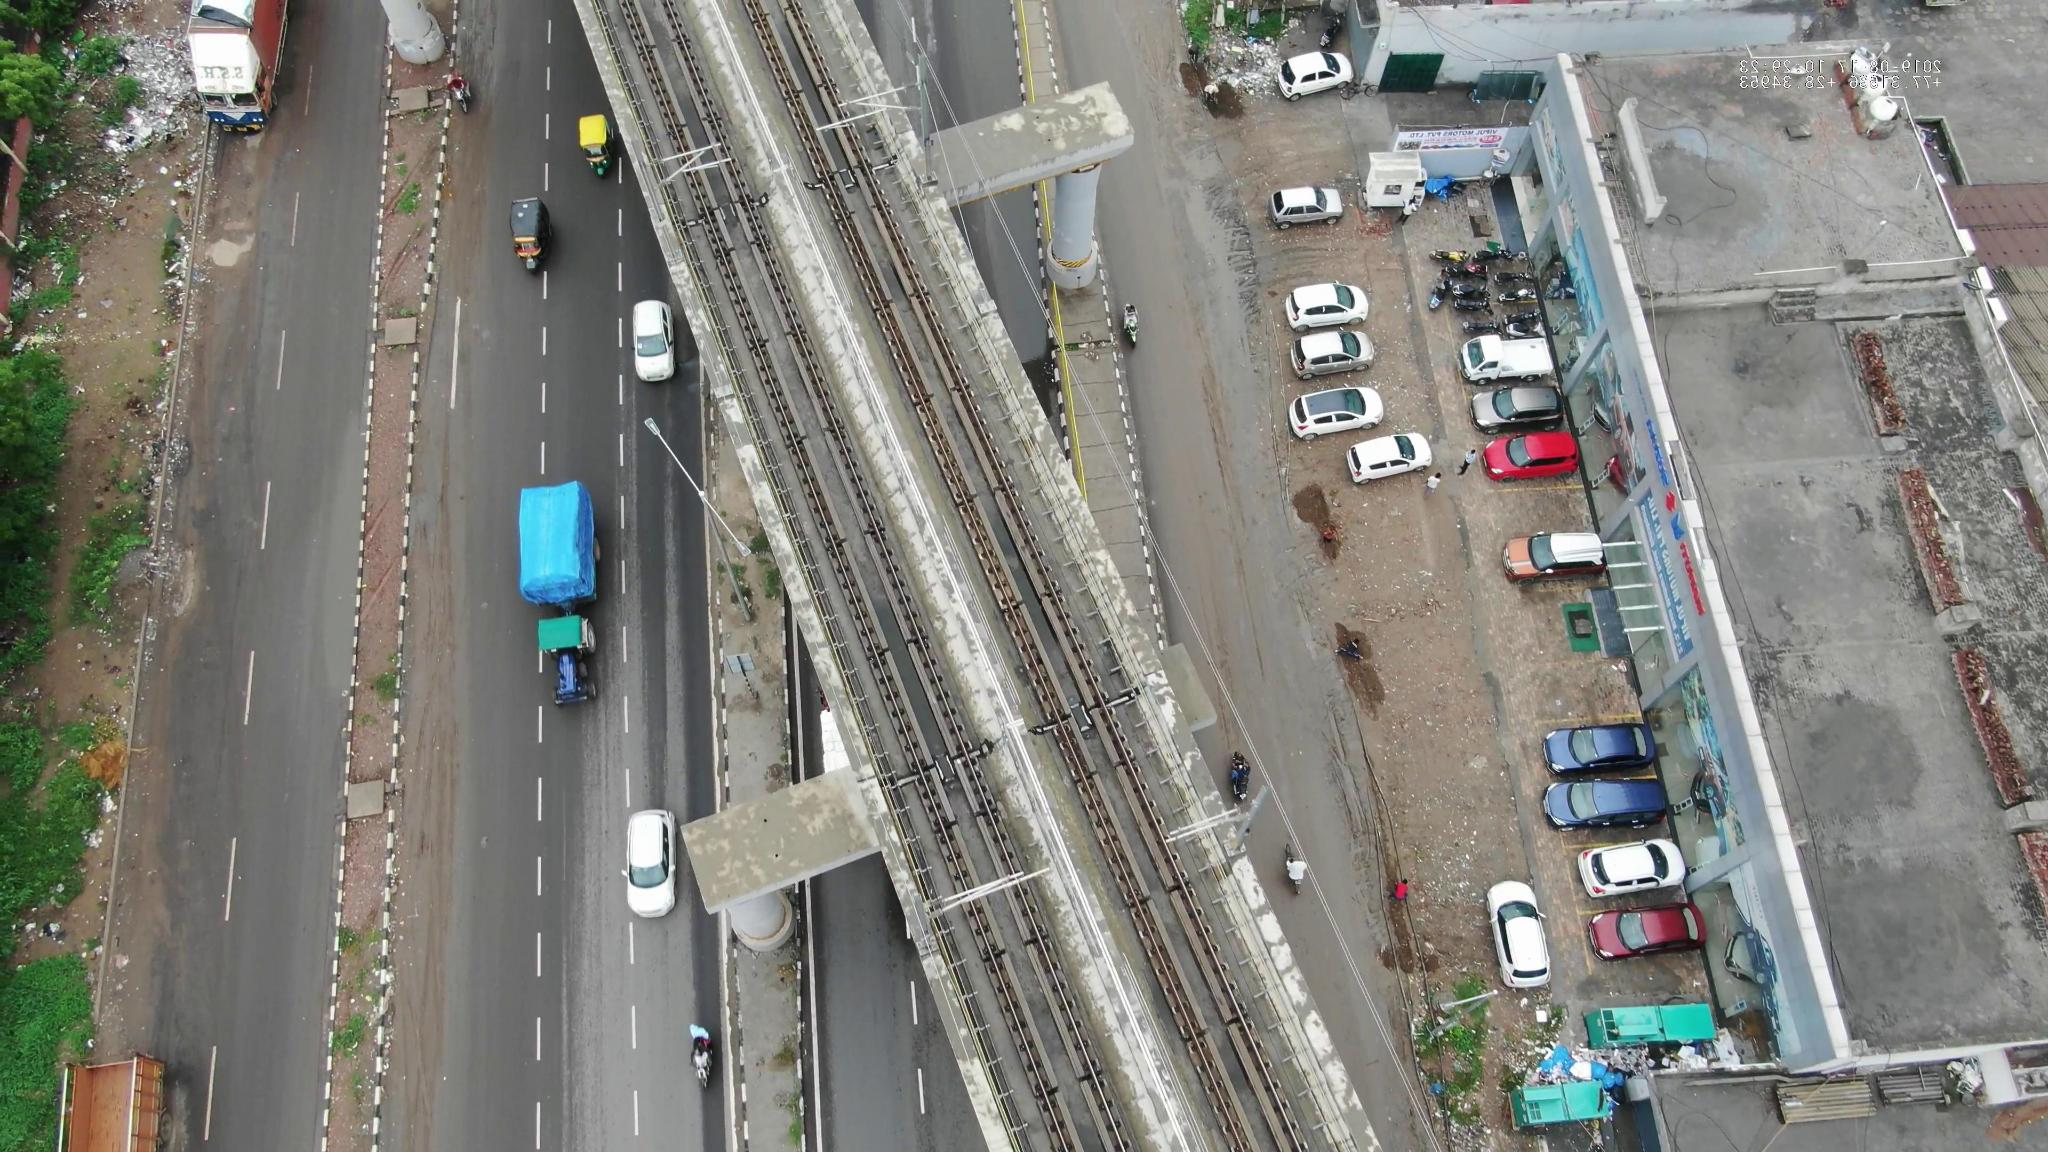Muddy_road: (1184, 170, 1279, 478), (399, 670, 473, 911), (414, 388, 475, 627), (1311, 691, 1385, 879), (383, 926, 446, 1146), (108, 866, 181, 1041), (446, 96, 491, 276)
Road_side_garbage: (56, 42, 180, 181)
